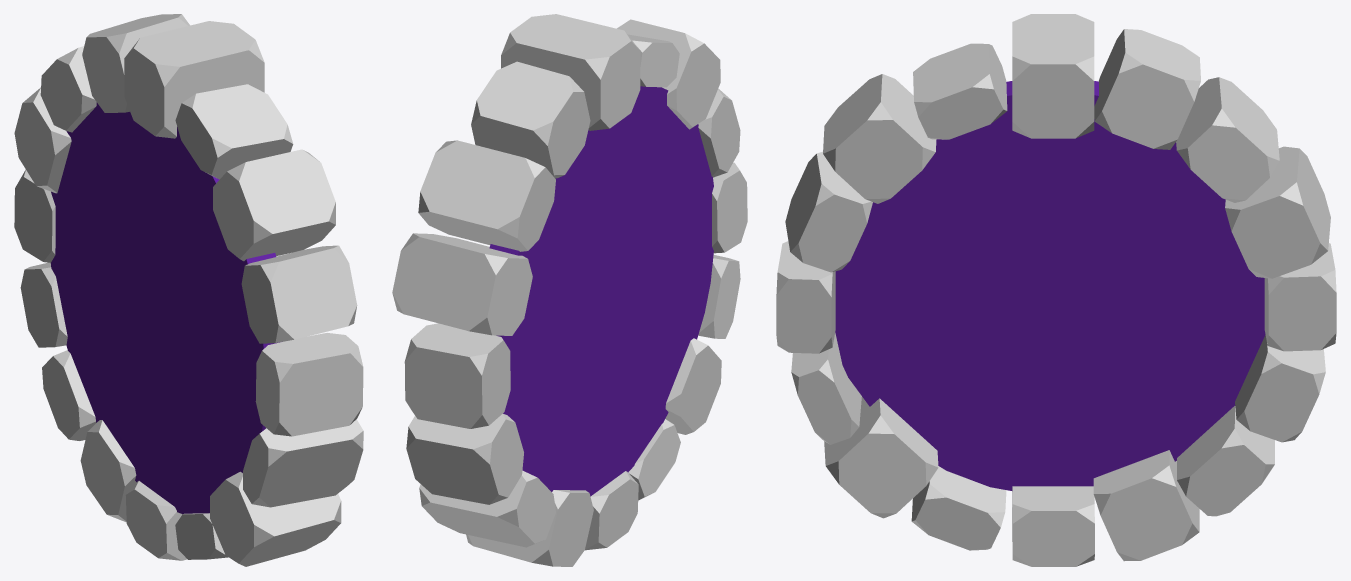
File: Portal.fbx
3 renders of one model, left to right at view 1: azimuth 30°, elevation 25°; view 2: azimuth 150°, elevation 25°; view 3: azimuth 270°, elevation 25°, orthographic. The views are drawn at different scales.
Parts seen in each view (by area): view 1: Outline, Portal; view 2: Outline, Portal; view 3: Portal, Outline.
Boxes of the visible parts, x1,y1,x2,y2 form: Outline: [14, 14, 363, 566]; Portal: [50, 102, 279, 514]; Outline: [392, 14, 747, 566]; Portal: [489, 86, 713, 496]; Portal: [835, 81, 1265, 490]; Outline: [776, 14, 1336, 566].
Bounding box in the file's own units: 98.13 × 461 × 459.
